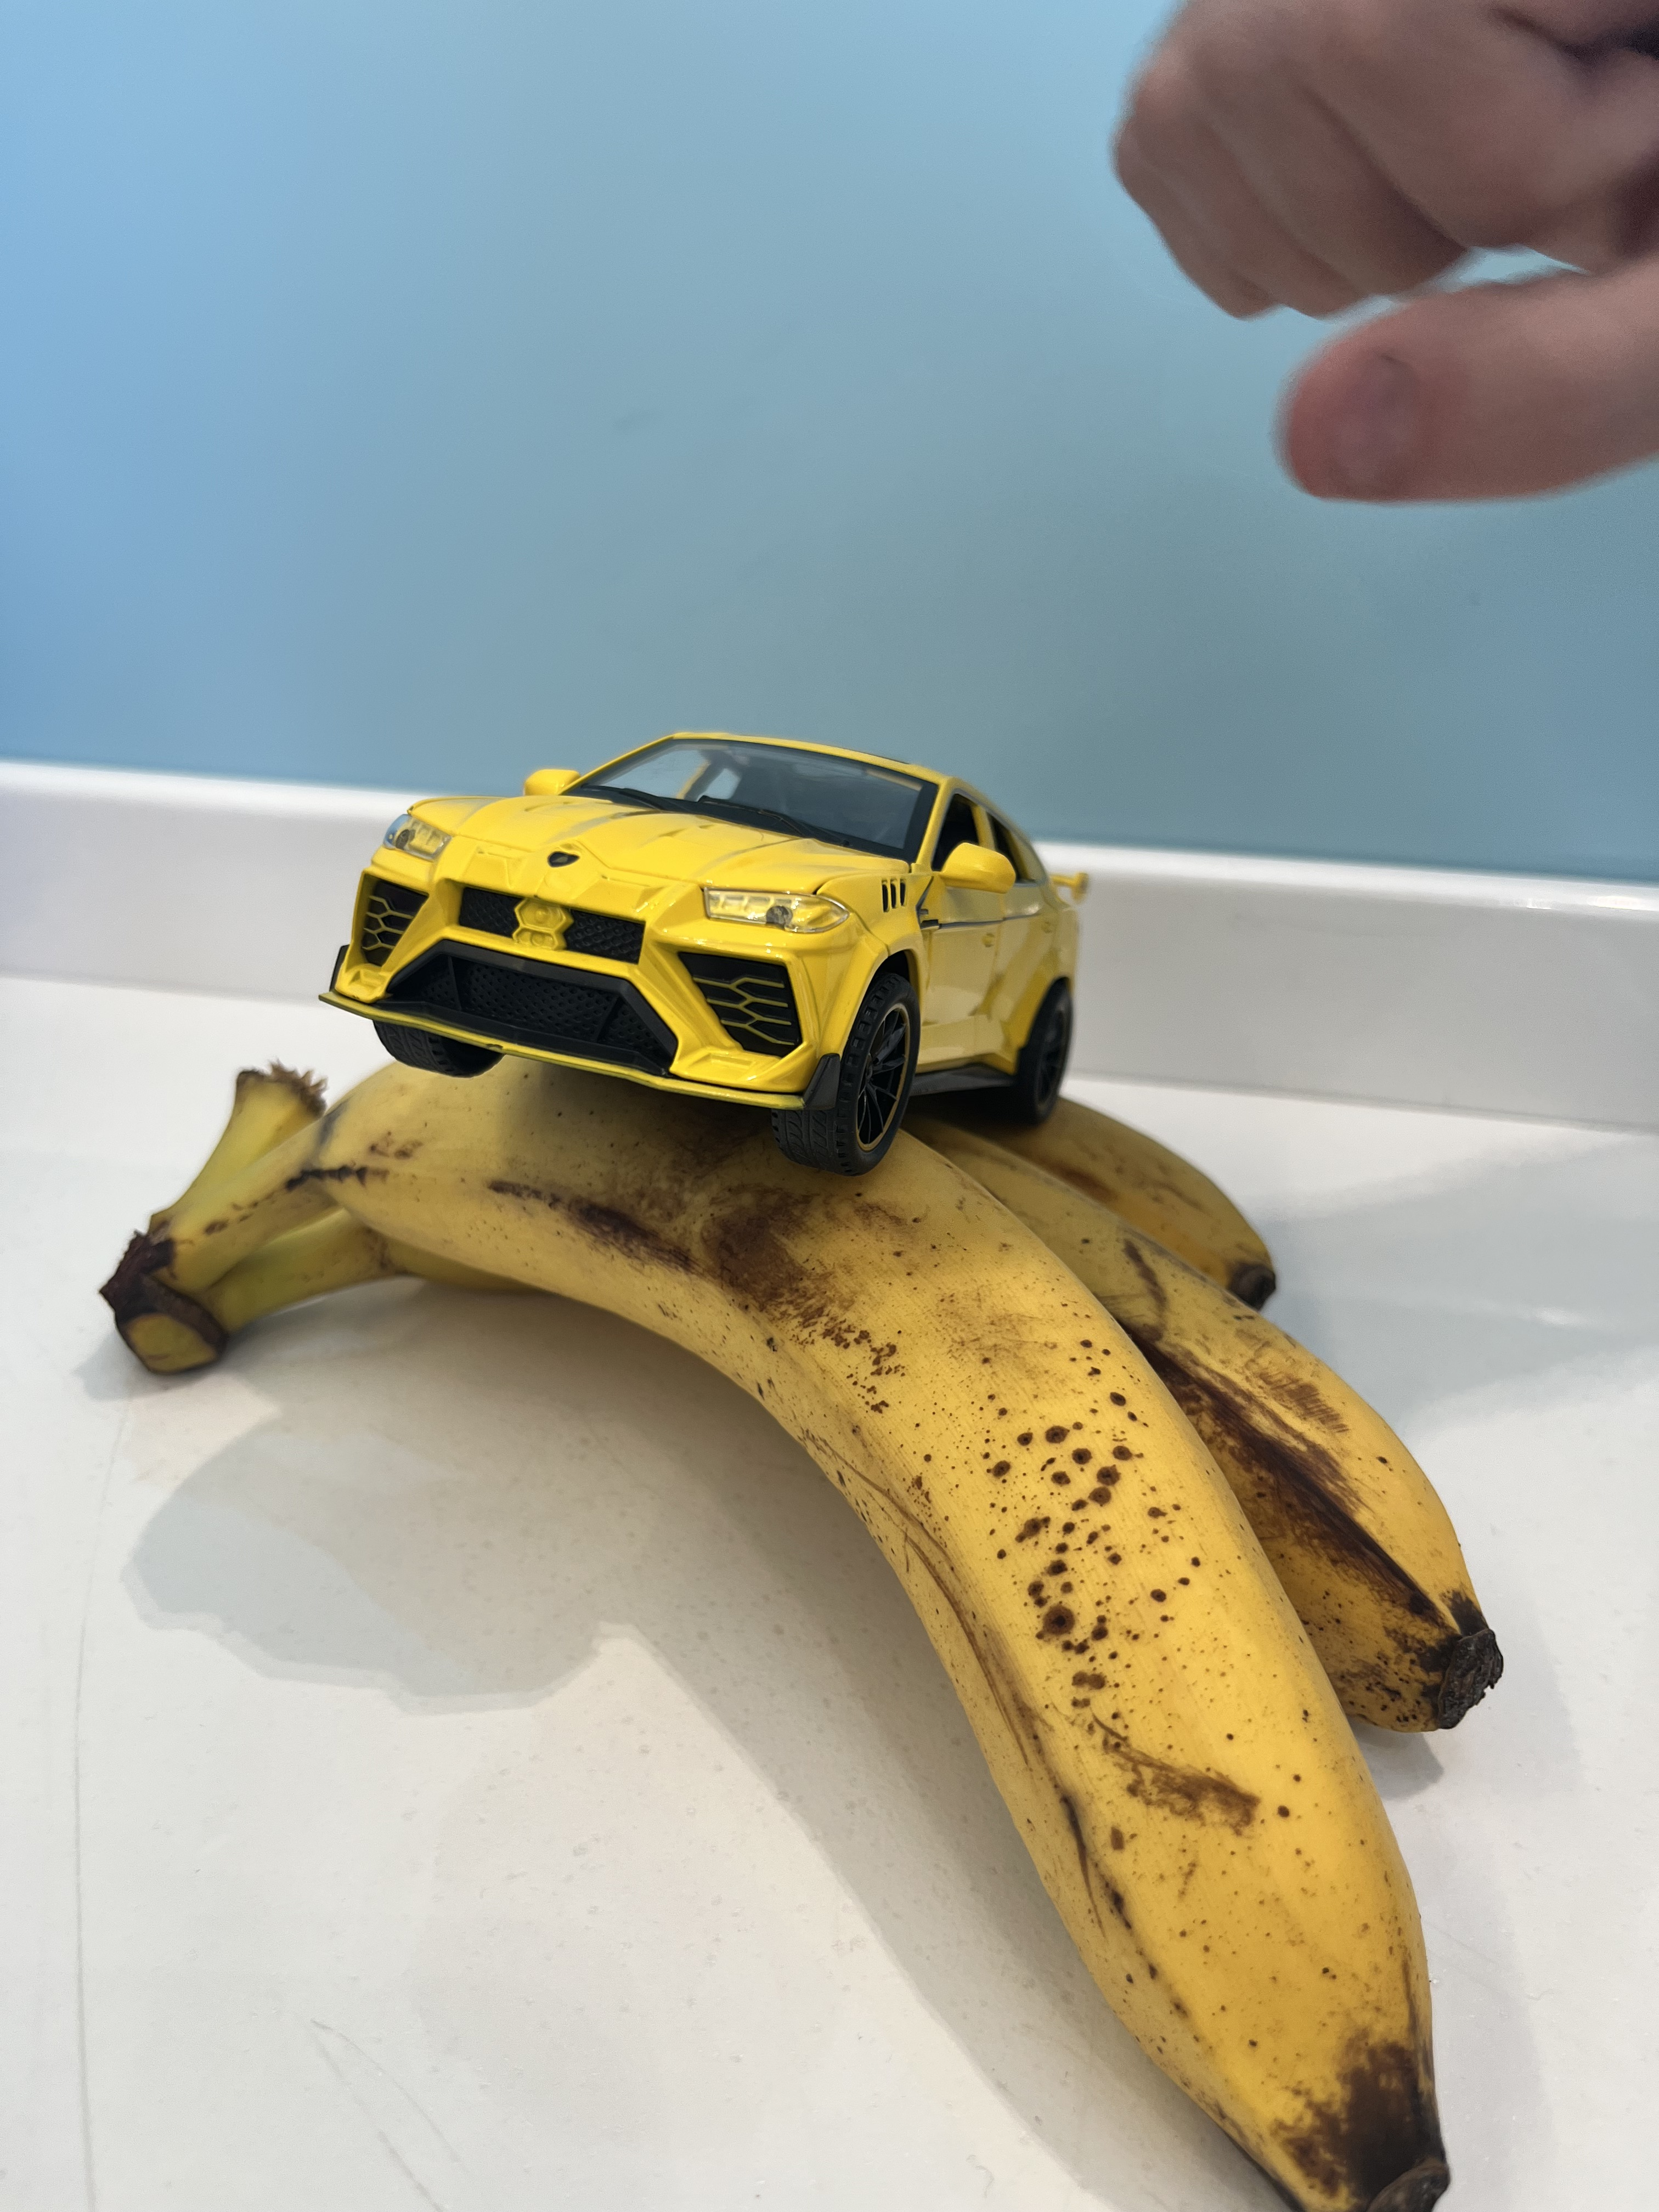lambo: (267, 582, 1119, 1188)
